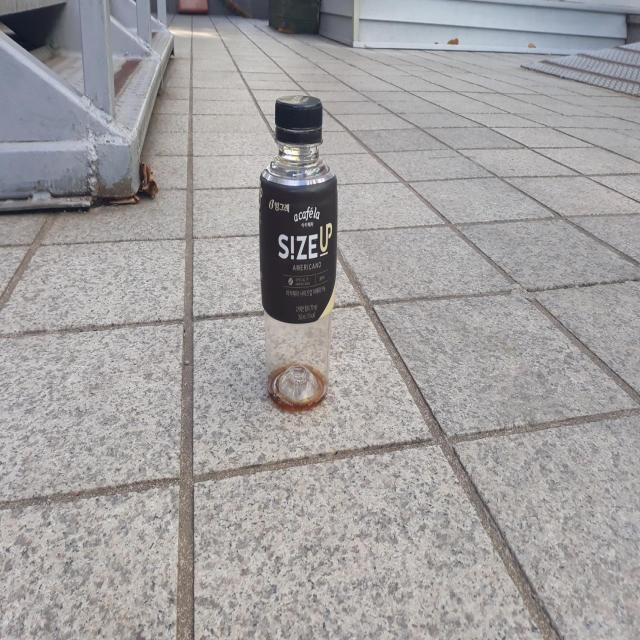plastic: (260, 94, 338, 410)
